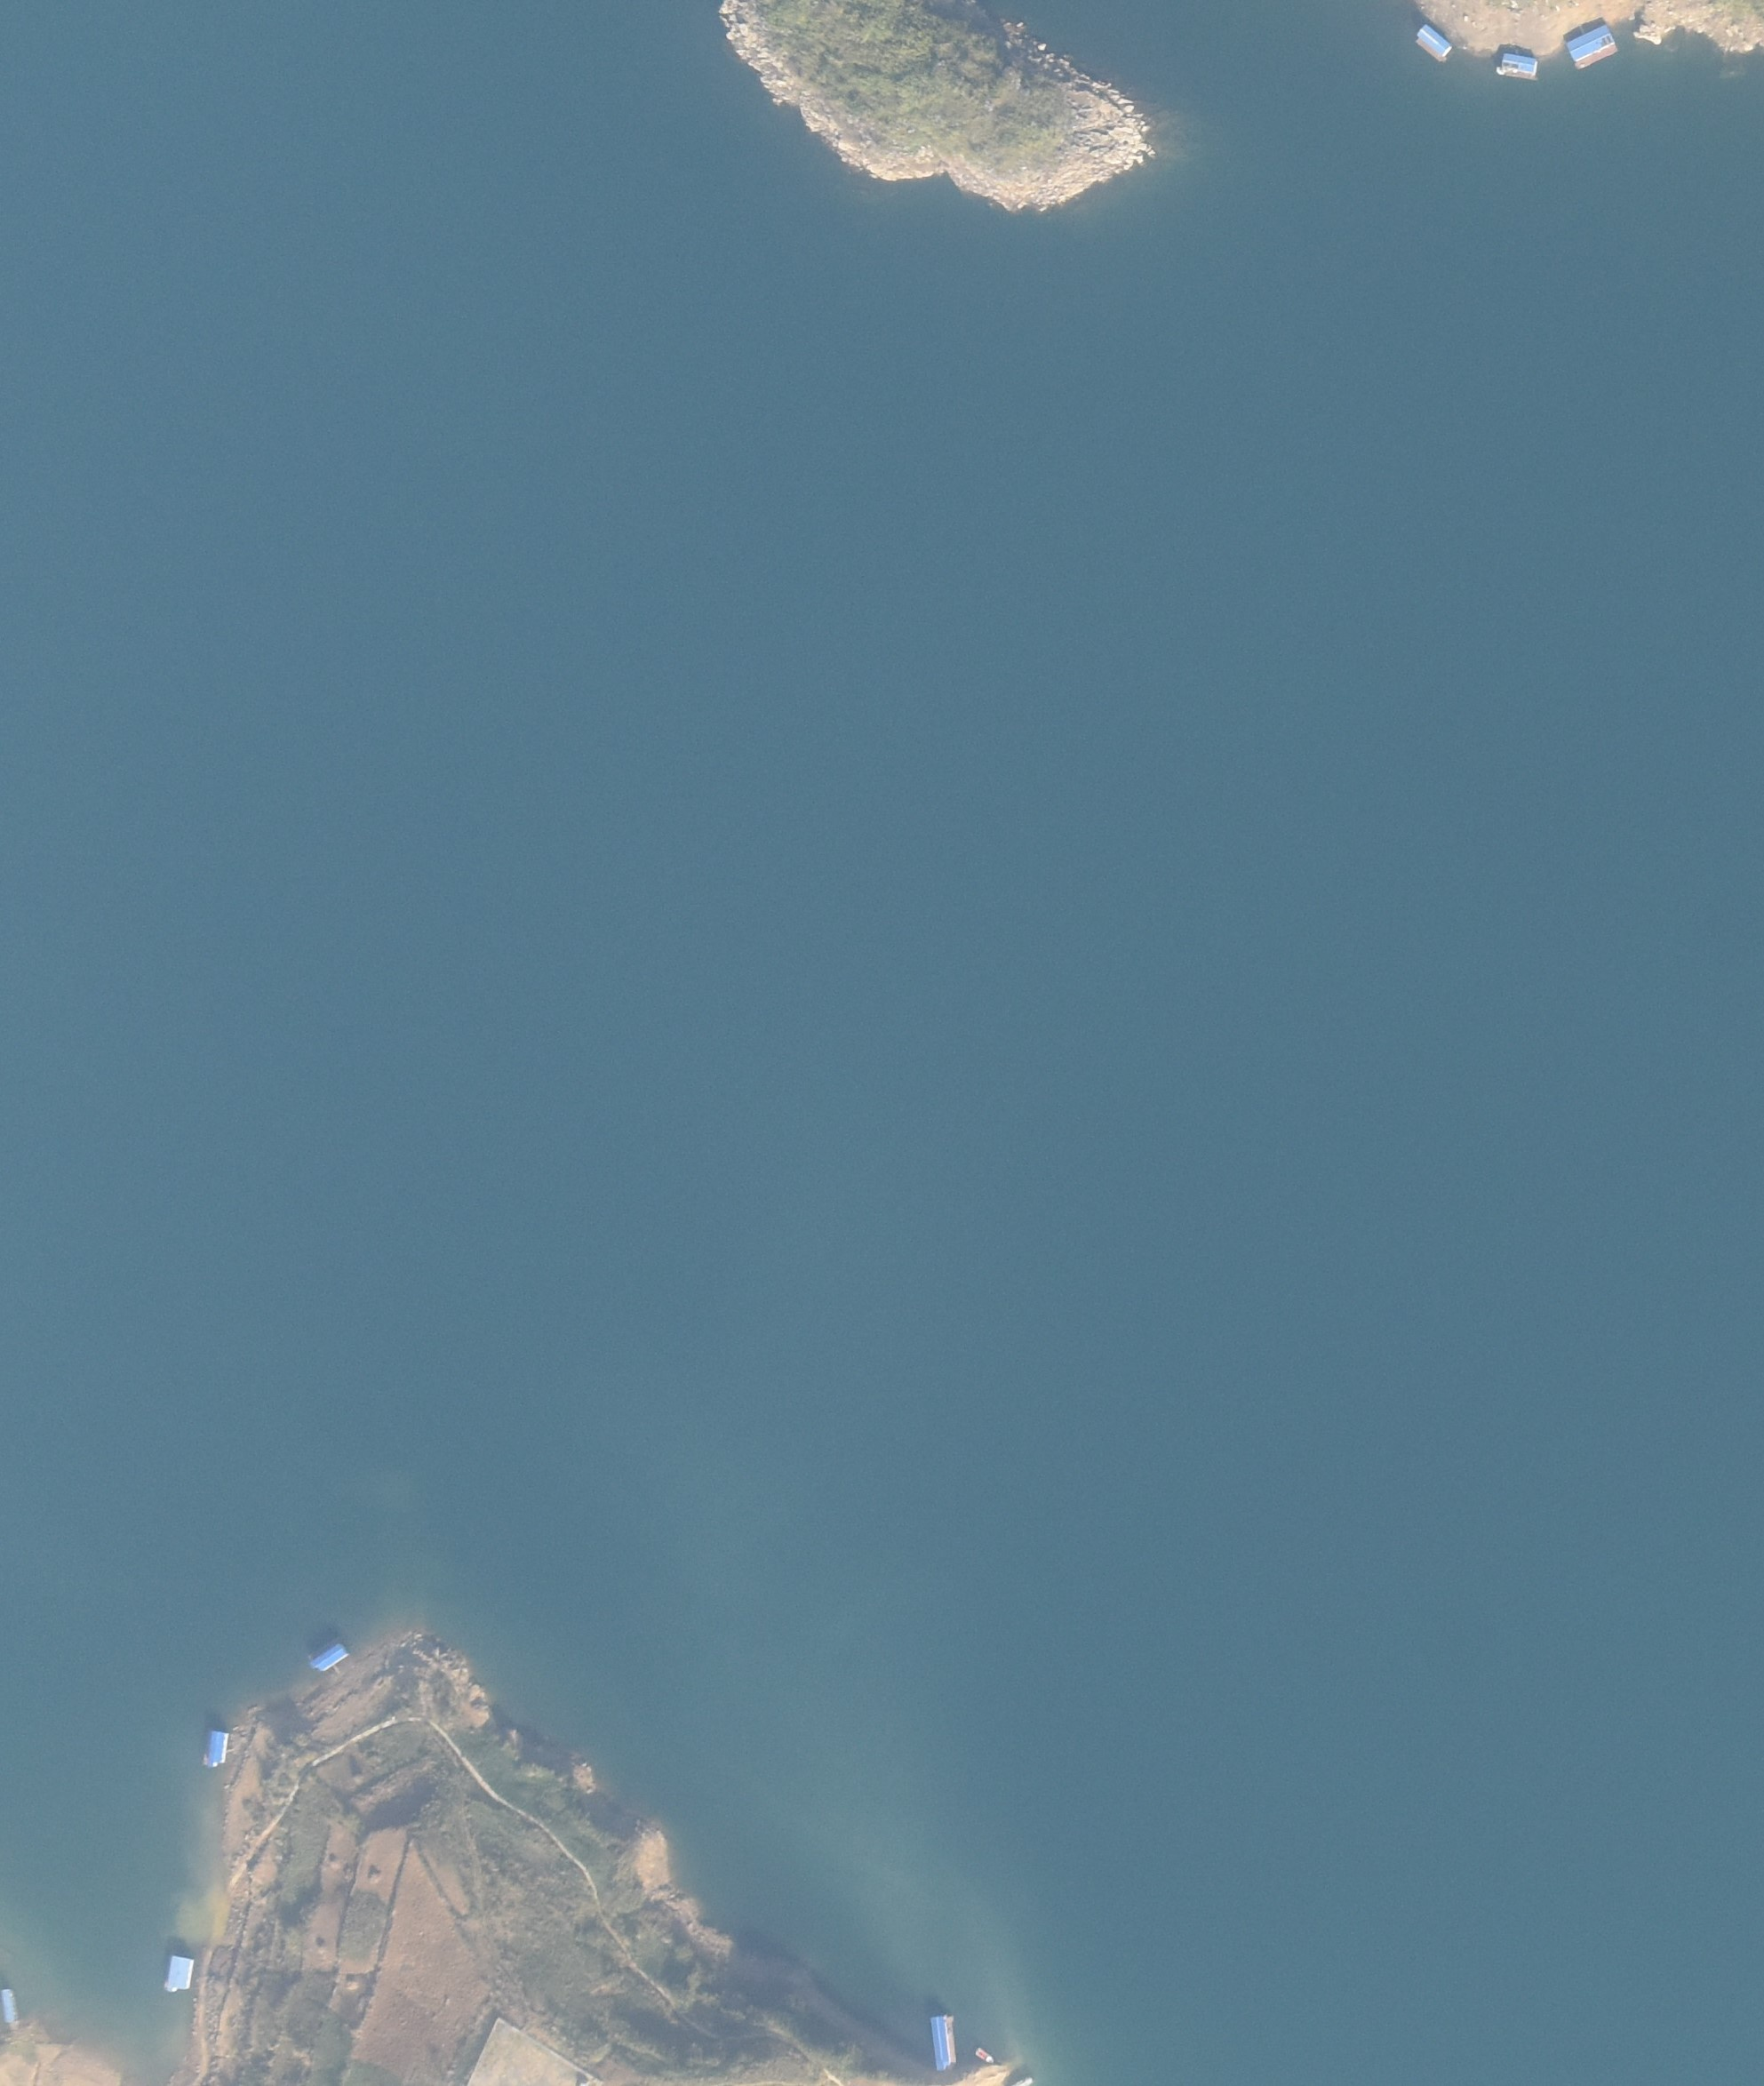prefabricated-house: (1568, 21, 1615, 70), (931, 2009, 956, 2068), (310, 1638, 350, 1673), (1416, 23, 1451, 54), (163, 1953, 194, 1988), (1498, 49, 1535, 77), (205, 1731, 226, 1764), (2, 1988, 16, 2026)
ship: (973, 2049, 994, 2065), (1010, 2074, 1032, 2086)
